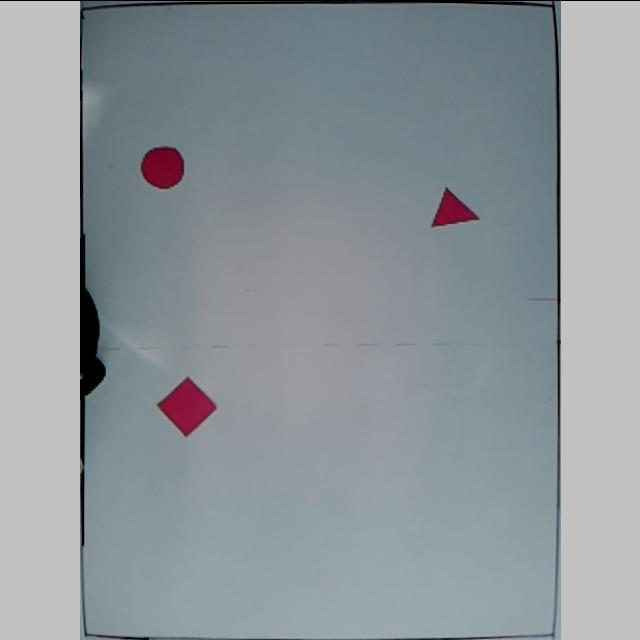pinkCircle: (138, 144, 184, 190)
pinkSquare: (154, 374, 218, 436)
pinkTriangle: (428, 186, 480, 226)
